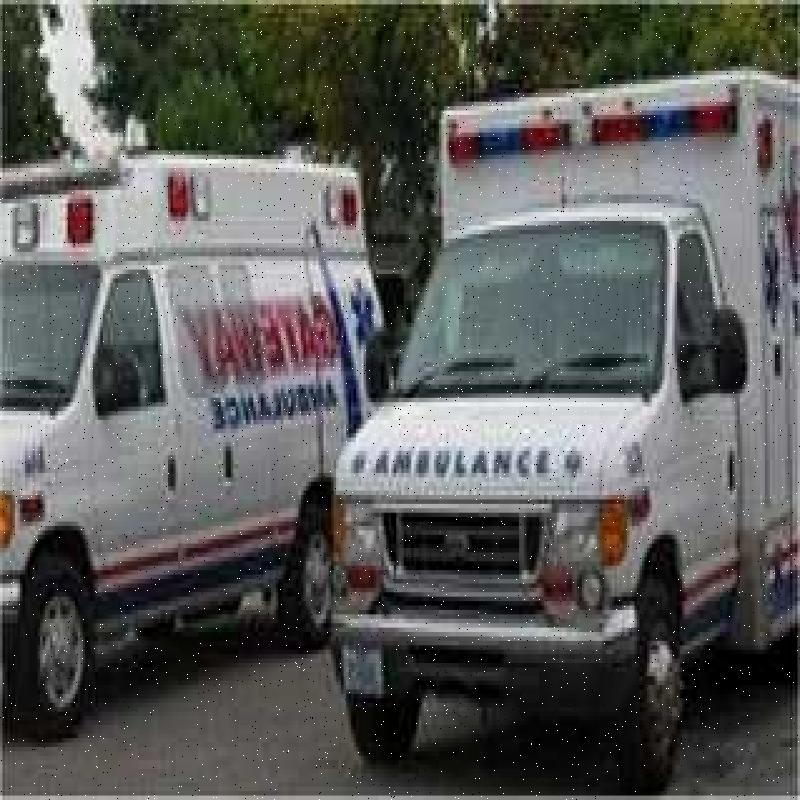AmbulanceSiren: (446, 71, 738, 205)
